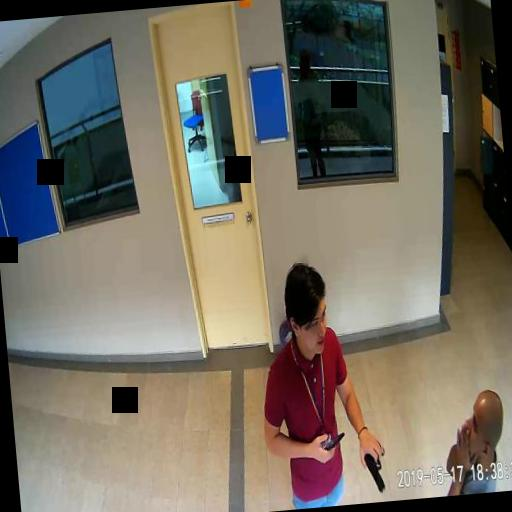Handgun: (358, 436, 386, 494)
